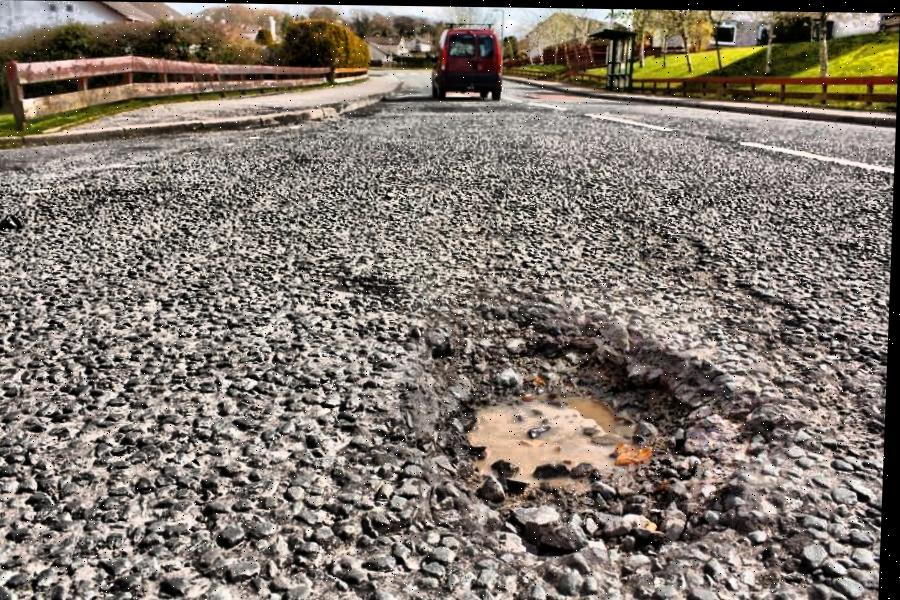pothole: (425, 303, 770, 582)
